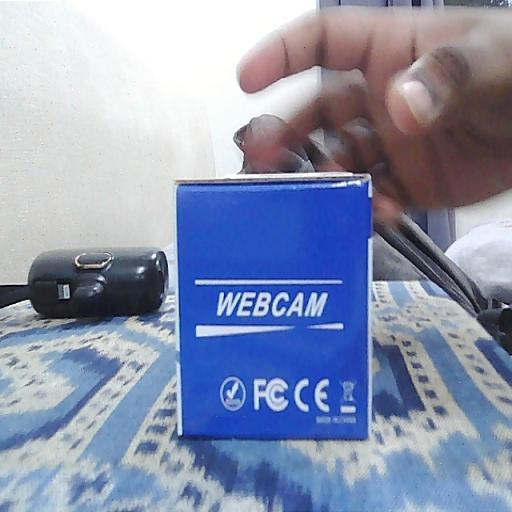webcam_box: (172, 170, 374, 444)
